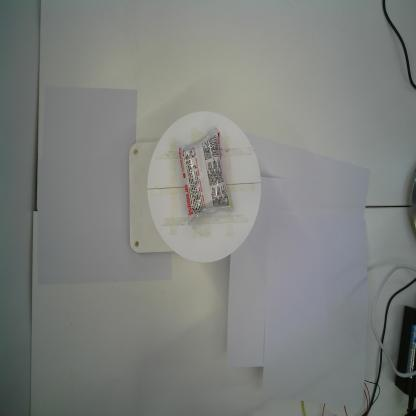Dessert: (176, 126, 234, 226)
